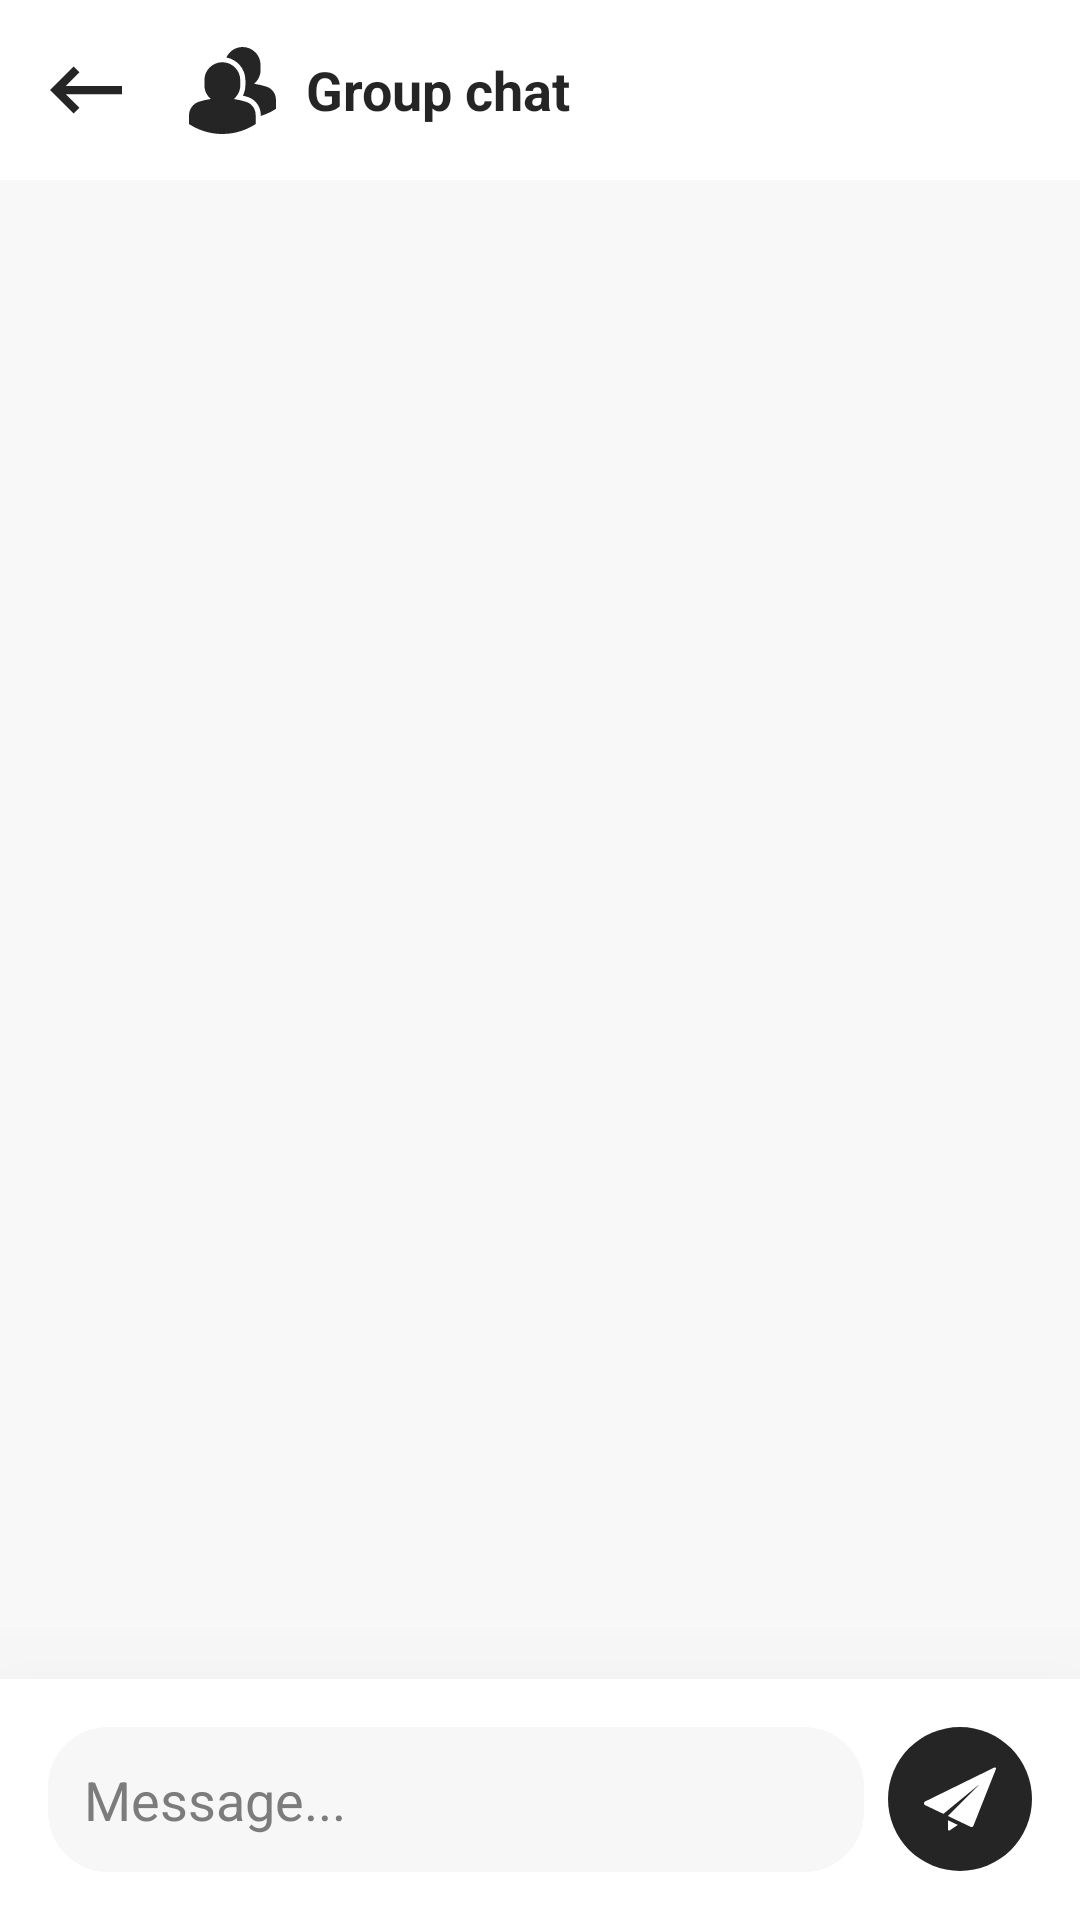

Locate icon controls on the screen. Image size 1080w x 1920h, boxes as (x1, y1, x2, y2).
Back to menu button: (50, 66, 122, 114)
Toolbar group image: (189, 47, 276, 134)
